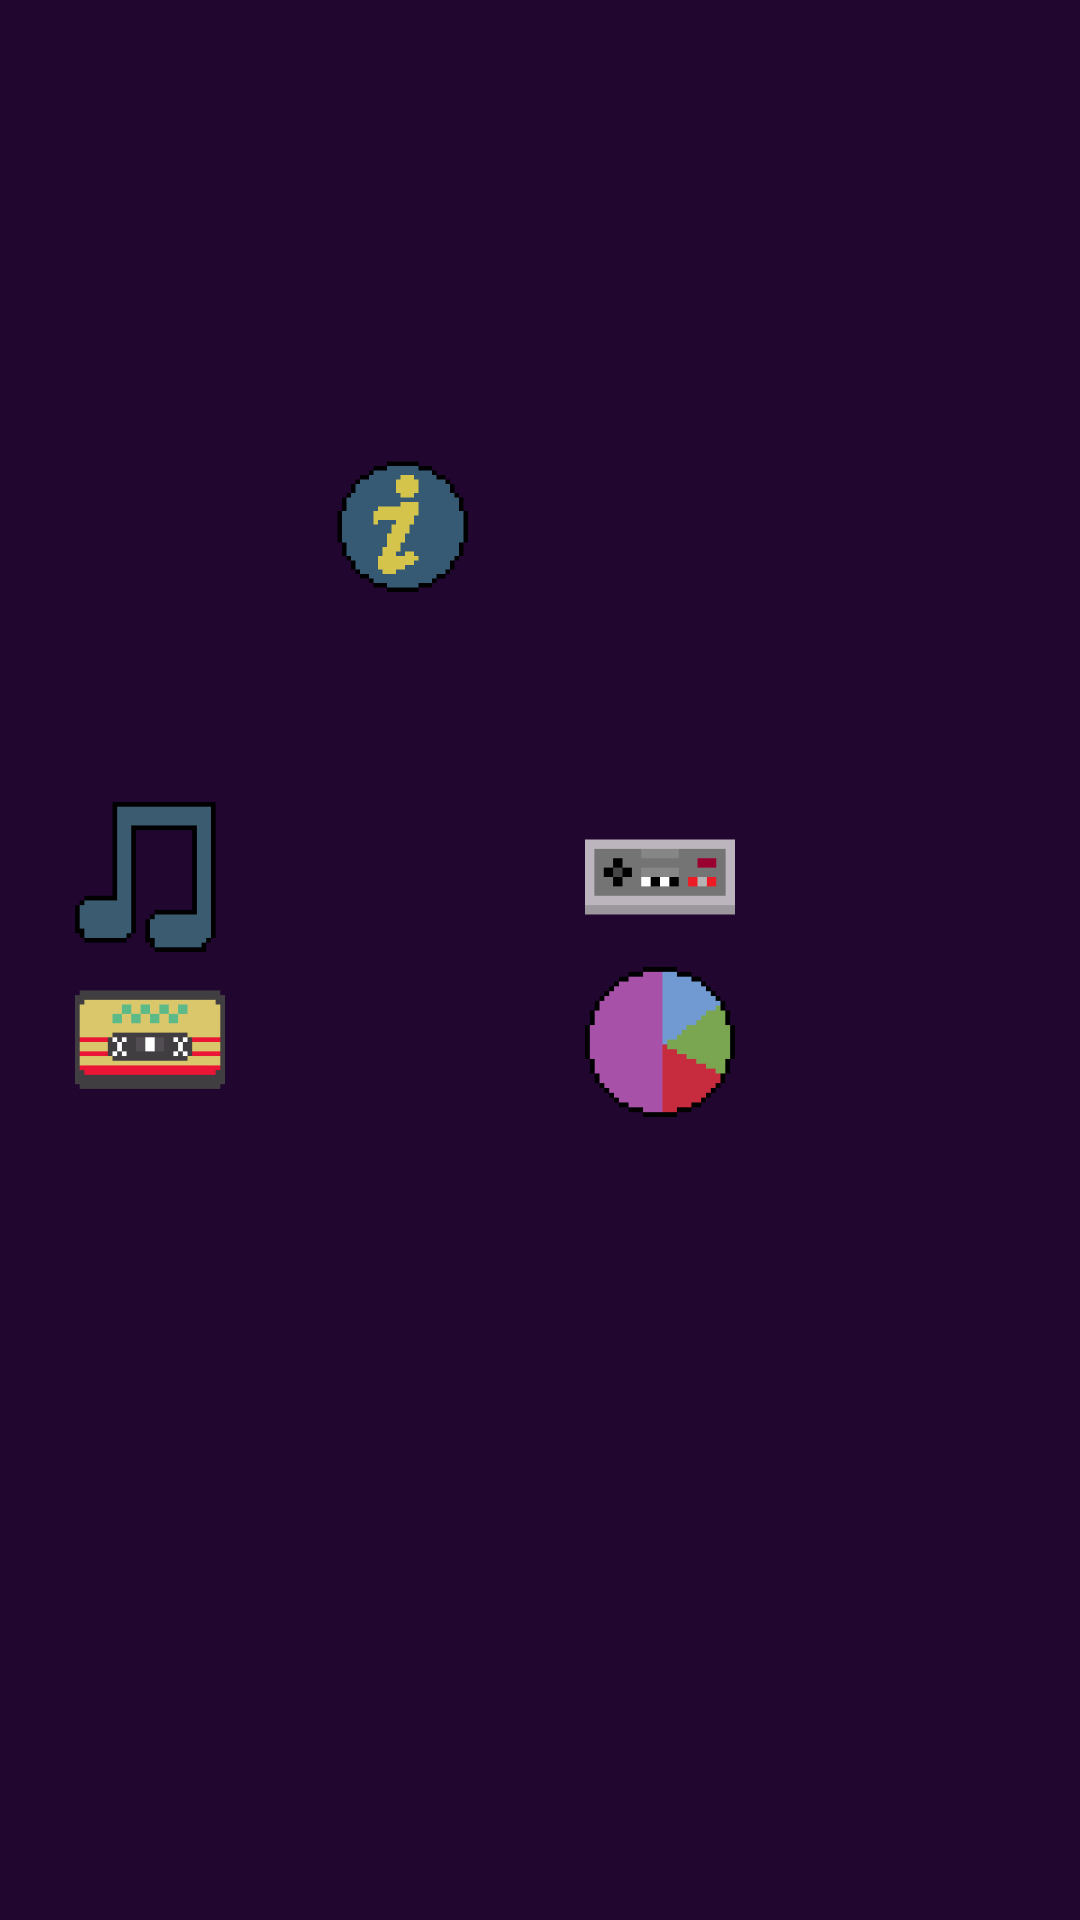

Point at icon controls on the screen. Image size 1080px×1920px, points as (x=x, y=y).
charts: (x=660, y=1042)
gamification: (x=660, y=877)
Ir a la pantalla de grabaciones al pulsar este botón: (x=150, y=1039)
Ir a la pantalla de selección de audios al pulsar este botón: (x=145, y=877)
Se mostrará la información del avatar al pulsar este botón: (x=403, y=527)
